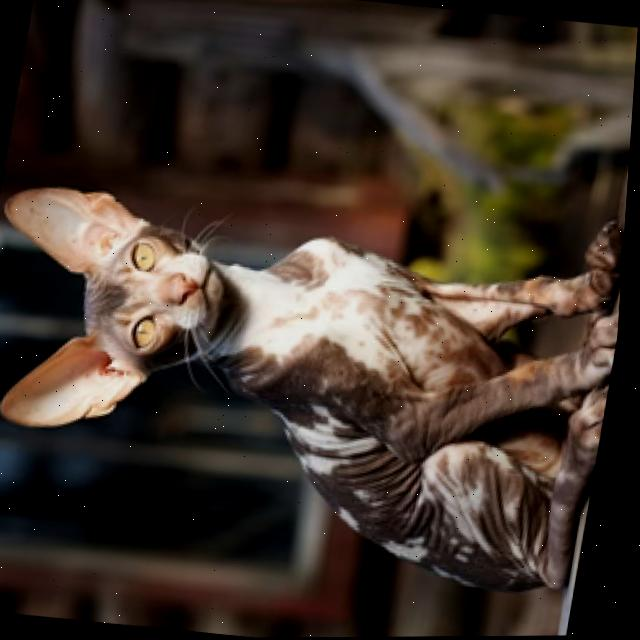Cornish Rex: (0, 150, 632, 610)
